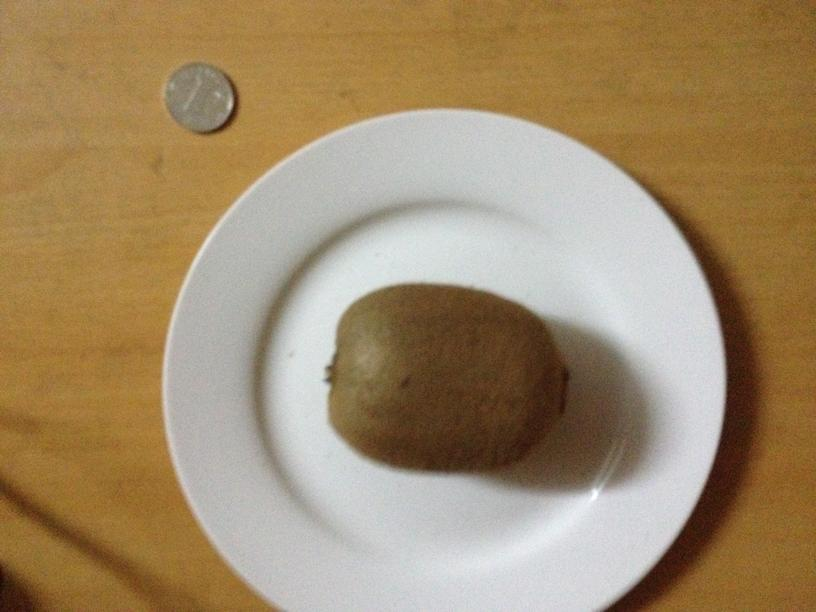coin: (160, 61, 238, 132)
qiwi: (314, 286, 564, 467)
